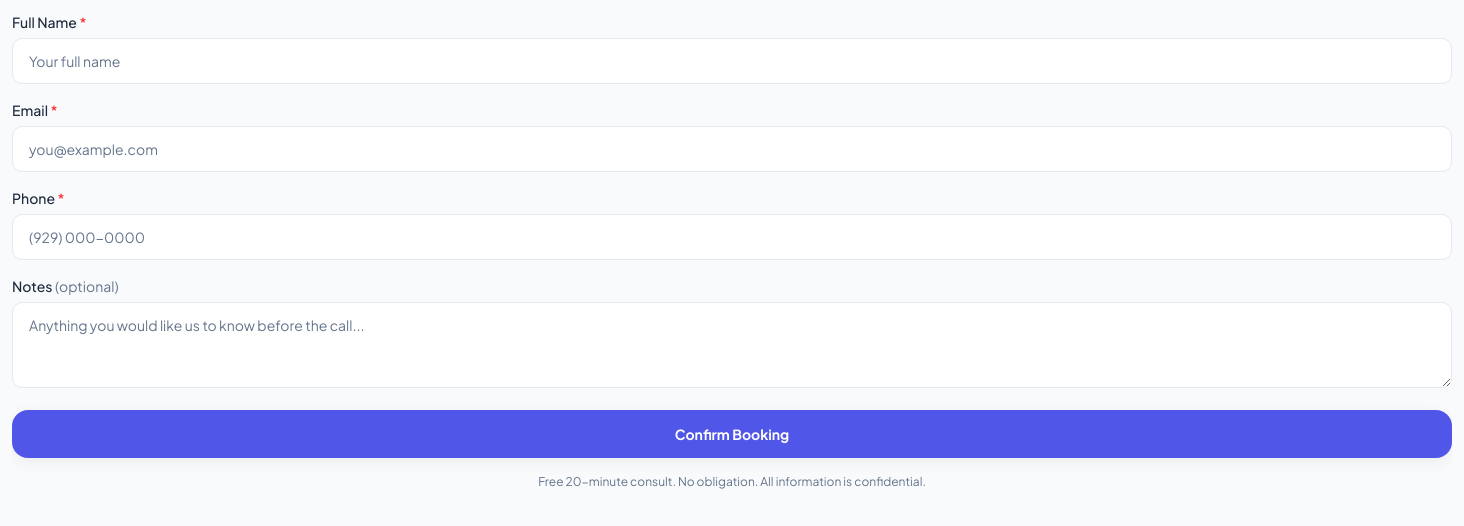
Test case: BookingContactForm › shows email validation error for invalid email
The width and height of the screenshot is (1464, 526).
In the field labelled "Email *": (732, 149) x1=12 y1=126 x2=1452 y2=172, type "not-an-email"
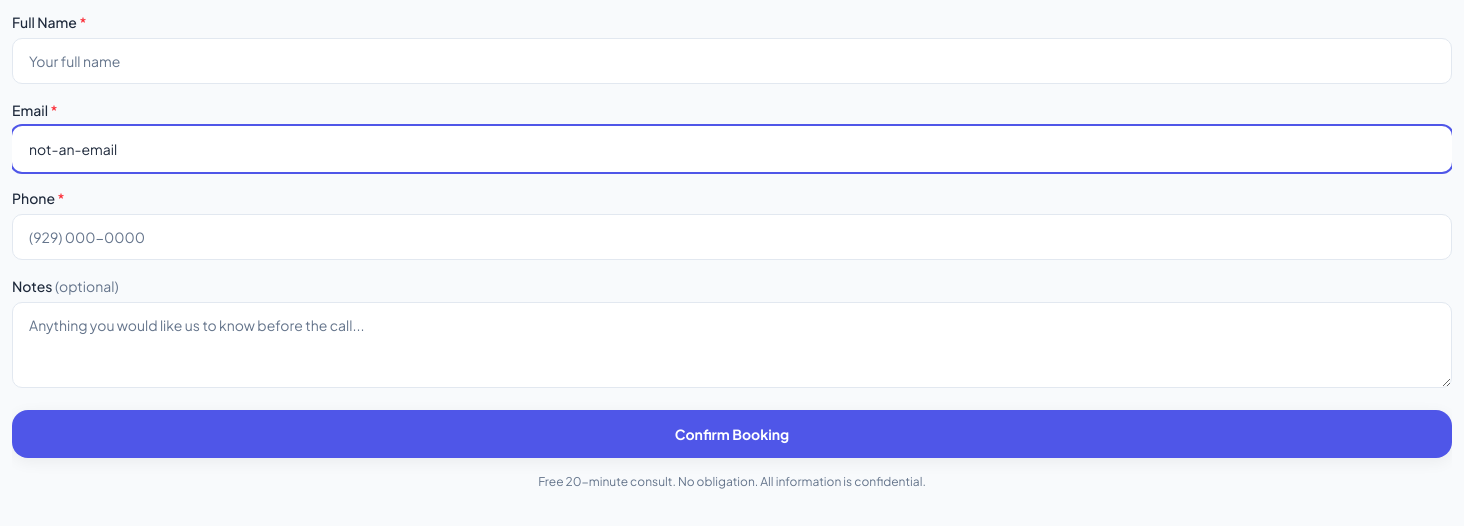
Press Tab
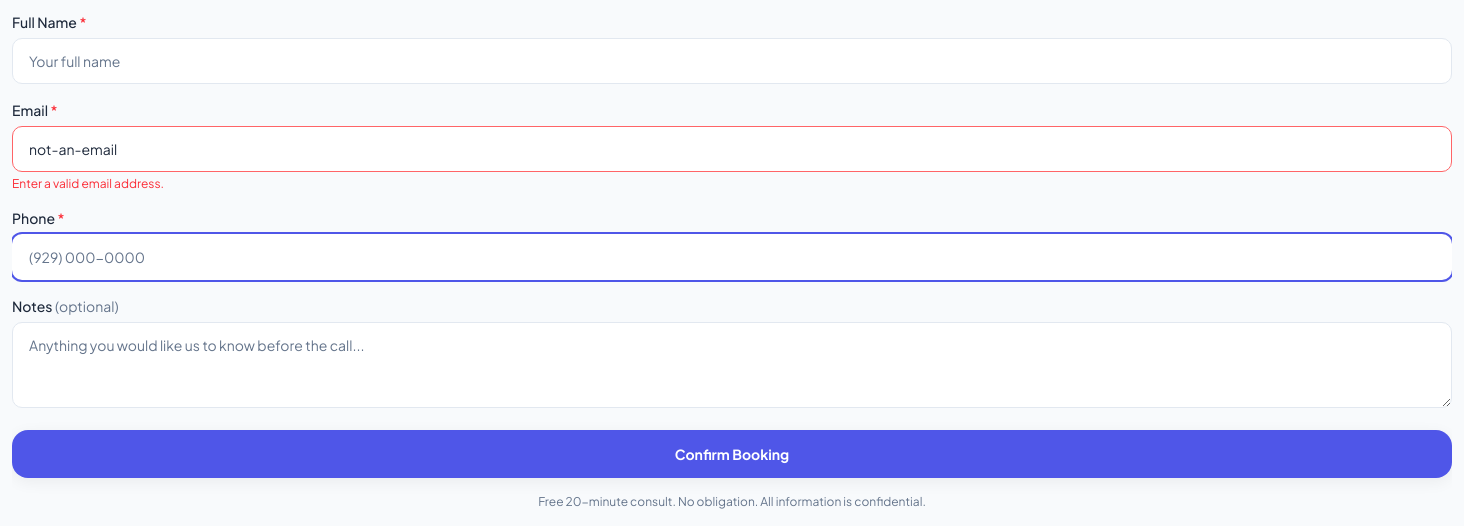
Expected: the text "Enter a valid email address." is shown, x1=12 y1=176 x2=164 y2=191
